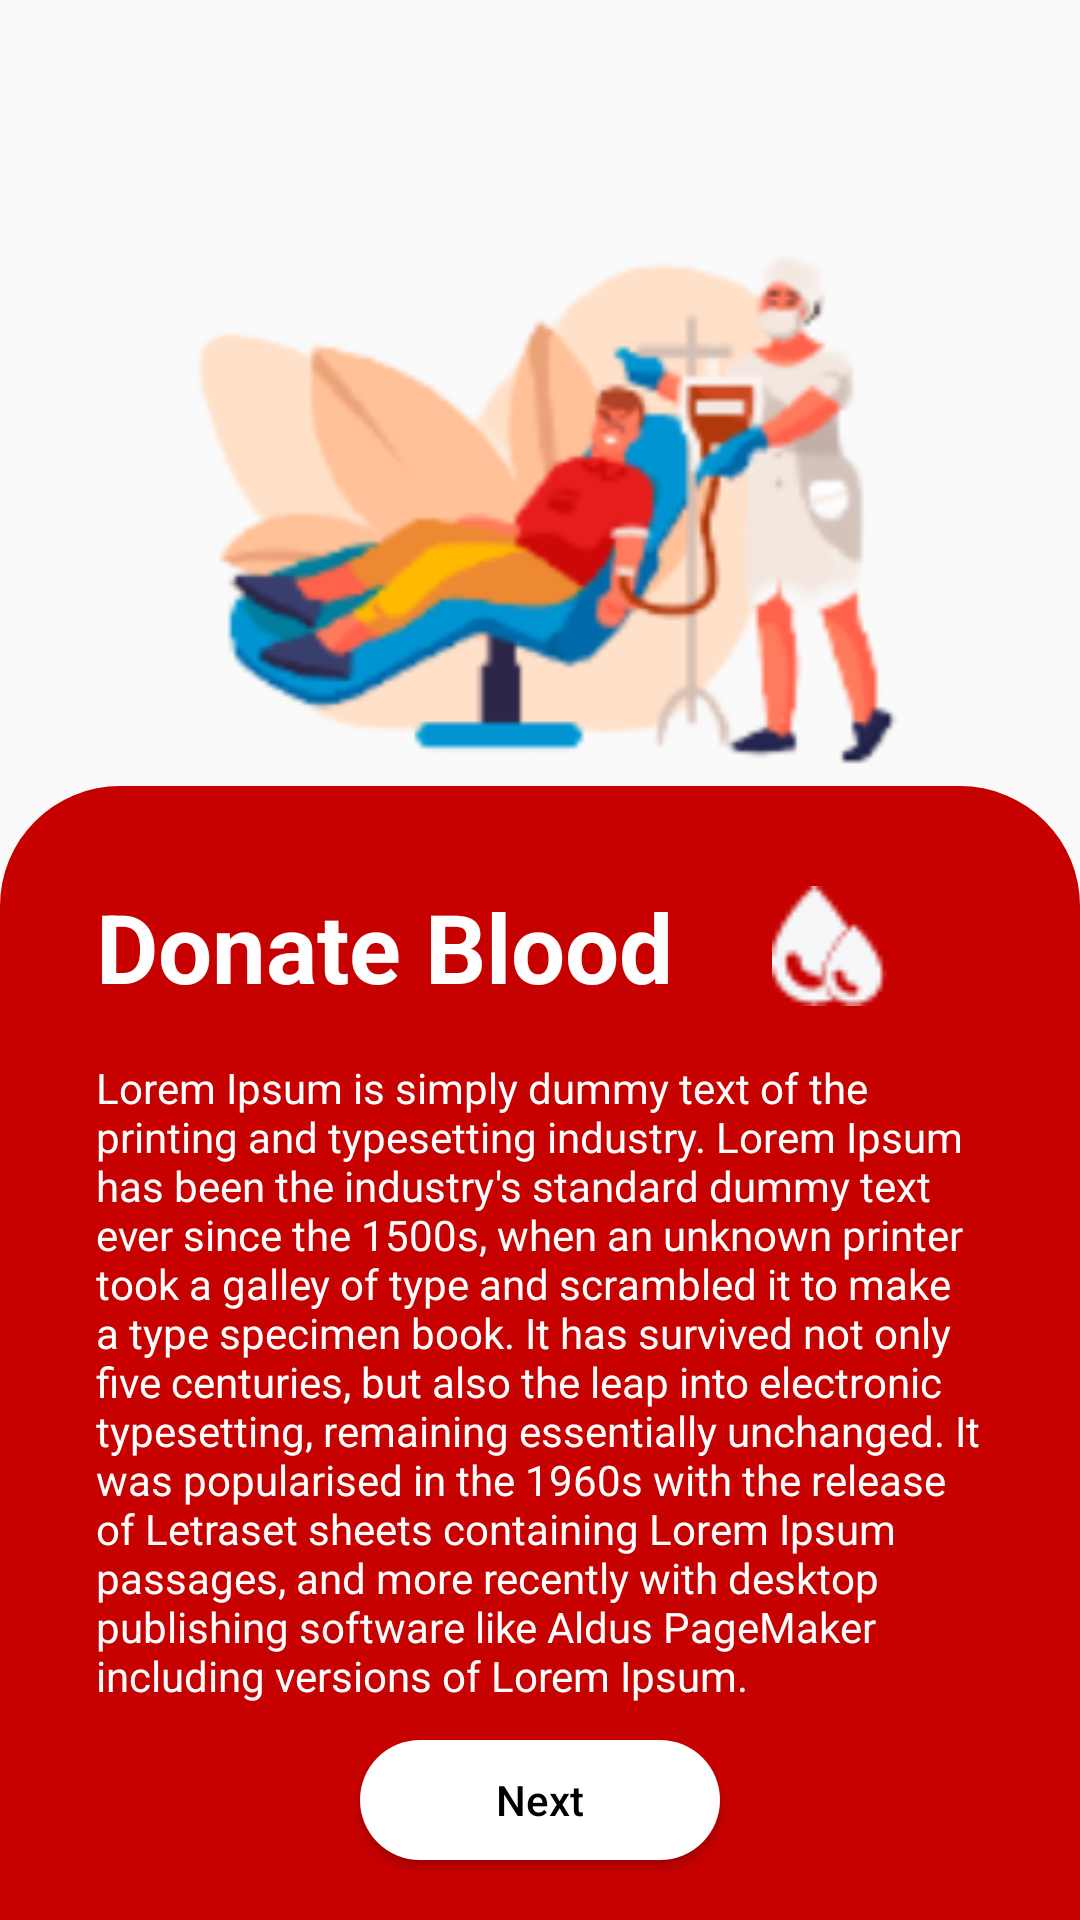

Named icons in this screenshot (1080x1920) and their bounding boxes, (x1, y1, x2, y2):
drop: (772, 886, 887, 1006)
